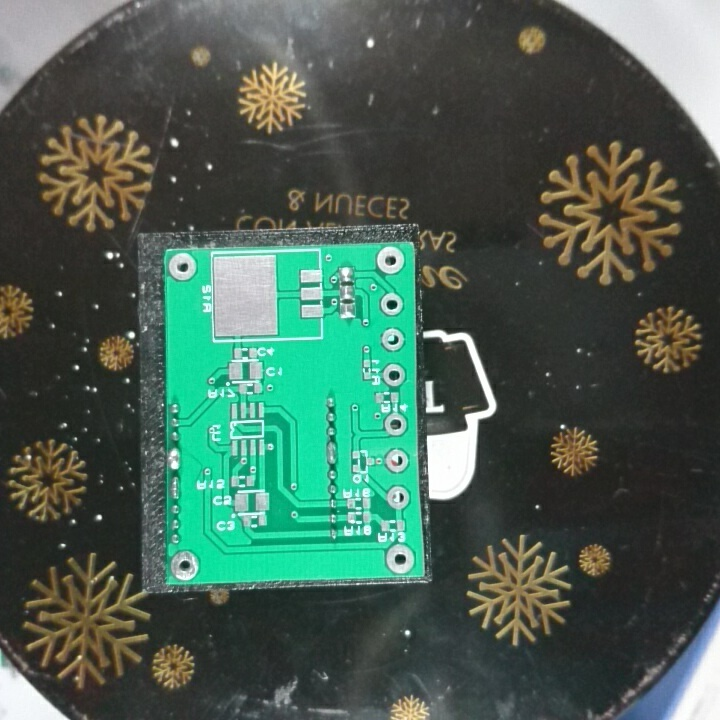F: (168, 549, 203, 583), (166, 250, 199, 283), (382, 544, 417, 575), (374, 246, 408, 276), (379, 326, 407, 355), (382, 411, 410, 438), (383, 446, 408, 475), (385, 483, 410, 512), (378, 291, 404, 318), (381, 362, 406, 390)
P: (324, 440, 340, 466), (168, 472, 182, 500), (167, 446, 182, 471)
